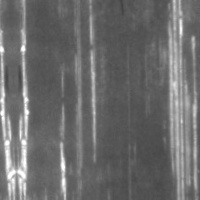scratches: (162, 0, 199, 194), (11, 0, 34, 199), (83, 0, 104, 163), (53, 74, 70, 199)
